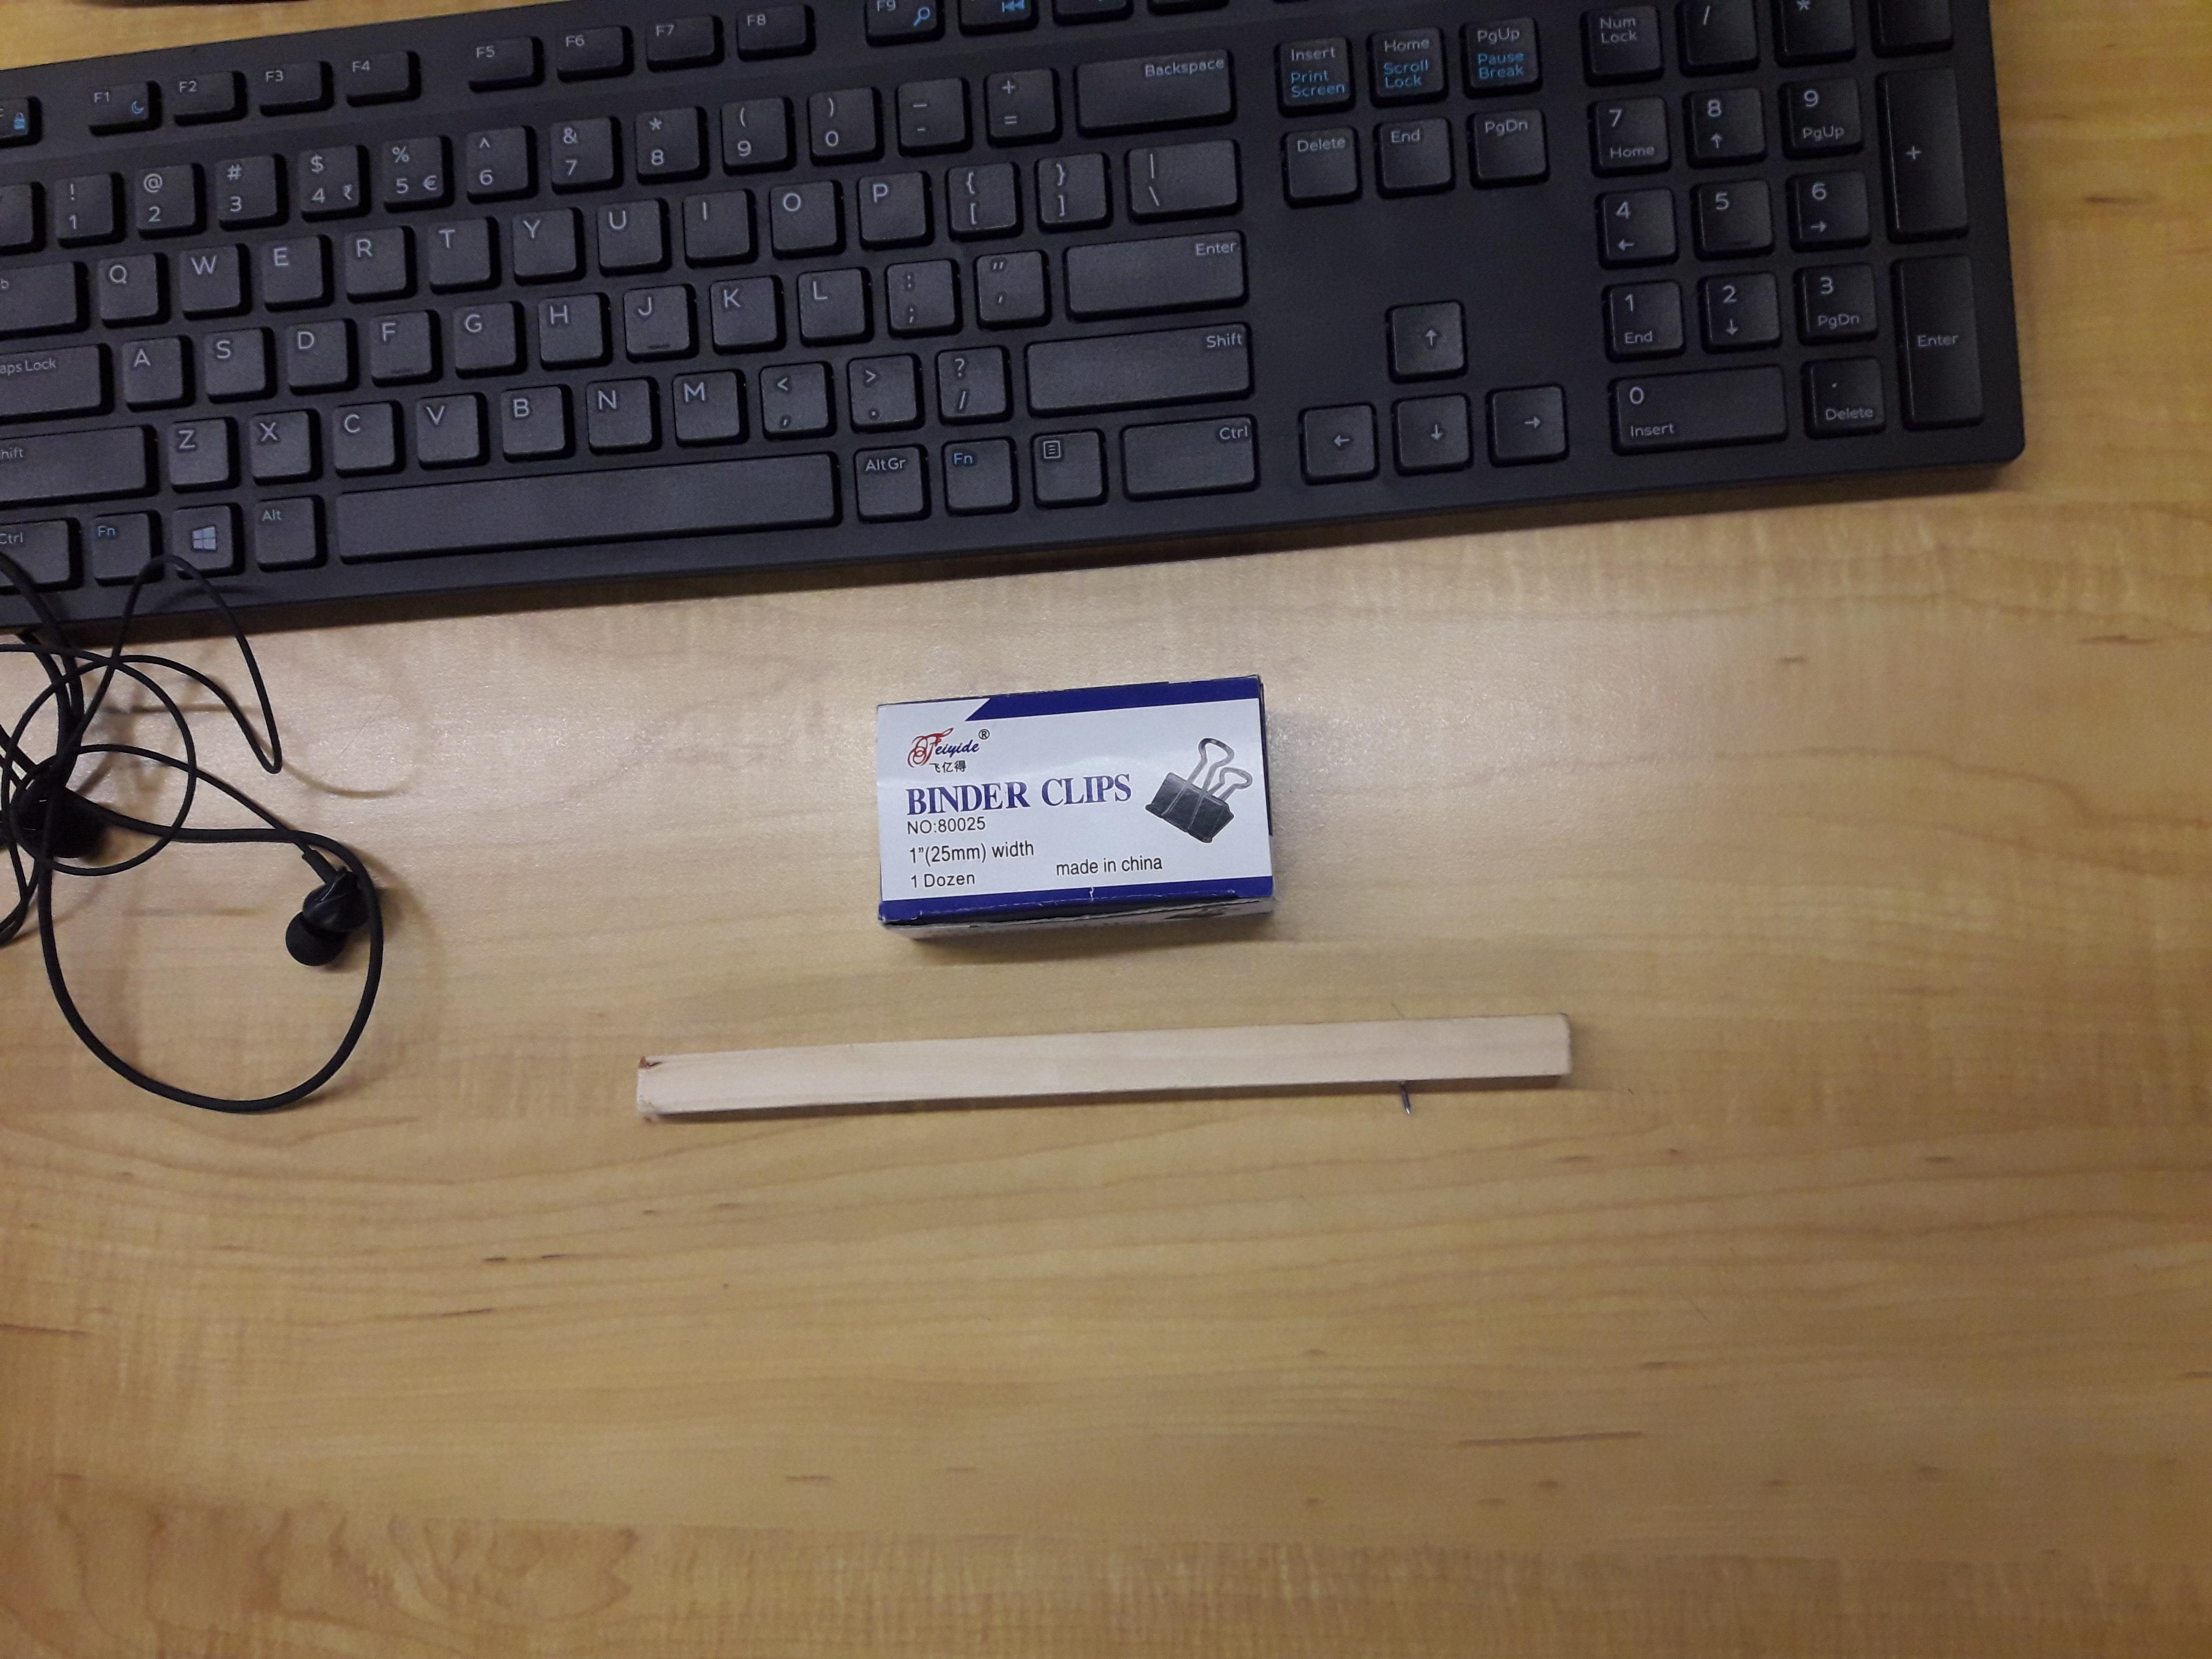object: (873, 676, 1271, 915)
reference: (637, 1016, 1571, 1110)
